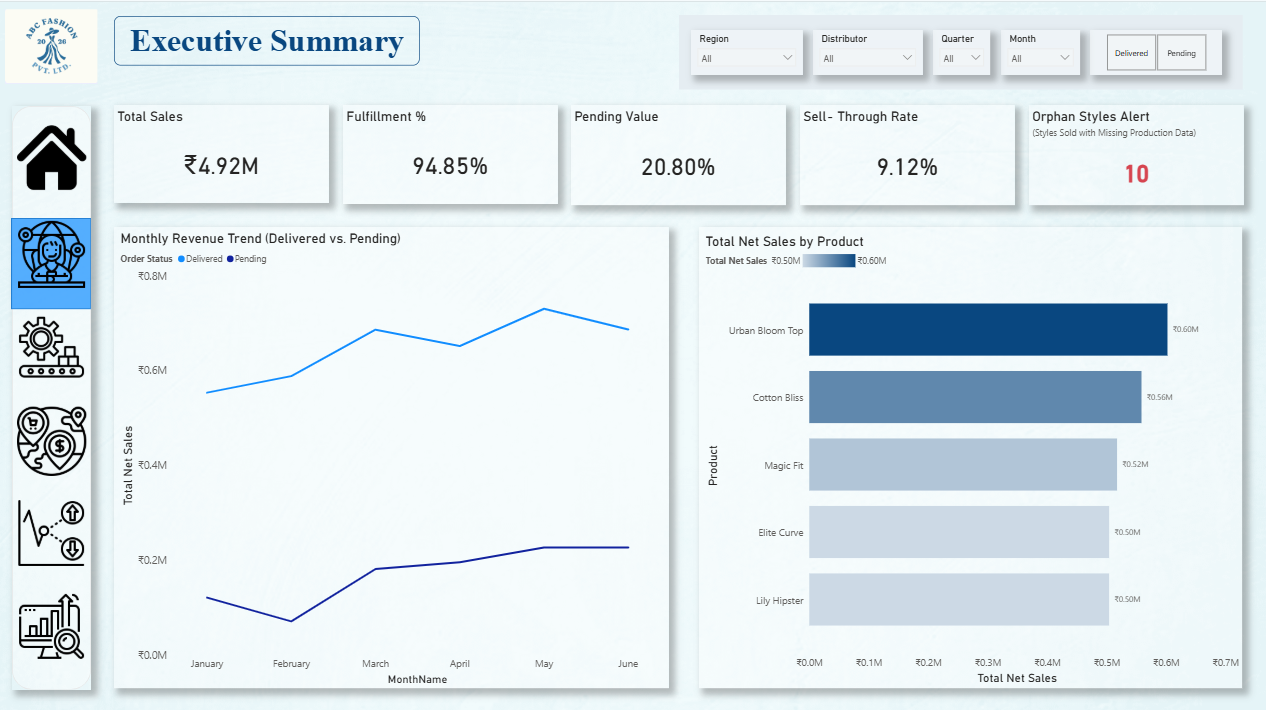

The page's visual inventory and layout, read from the dashboard file:
{"tool":"powerbi","page":{"name":"Executive Summary","canvas":[1920,1080],"ordinal":1},"visuals":[{"type":"card","title":"Total Sales","fields":{"Values":["Measures_Table.Total Net Sales"]},"box":[174.2,156.4,325,148.5],"z":0},{"type":"card","title":"Fulfillment %","fields":{"Values":["Measures_Table.Fulfillment Rate"]},"box":[520.6,156.4,325,150.4],"z":1000},{"type":"card","title":"Pending Value","fields":{"Values":["Measures_Table.Pending Value %"]},"box":[867,156.4,325,152.4],"z":2000},{"type":"card","title":"Sell- Through Rate","fields":{"Values":["Measures_Table.Sell-Through Rate"]},"box":[1213.4,156.4,325,152.4],"z":3000},{"type":"shape","box":[19.9,156.9,119.5,884],"z":4000},{"type":"shape","box":[18.8,326.6,121.4,138.2],"z":5000},{"type":"image","box":[27,328.9,104.7,106.8],"z":5000,"group":"g1"},{"type":"textbox","box":[174.2,21.8,463.2,75.2],"z":6000},{"type":"image","box":[27,177.2,104.7,117.3],"z":6000,"group":"g1"},{"type":"lineChart","title":"Monthly Revenue Trend (Delivered vs. Pending)","fields":{"Category":["Dim_Date.MonthName"],"Y":["Measures_Table.Total Net Sales"],"Series":["Fact_Sales.Order Status"]},"box":[174.2,340.5,840,698.7],"z":7000},{"type":"image","box":[27,889.6,104.7,113.1],"z":7000,"group":"g1"},{"type":"clusteredBarChart","fields":{"Category":["Dim_Style.Product"],"Y":["Measures_Table.Total Net Sales"]},"box":[1060.9,340.5,823.4,698.7],"z":8000},{"type":"image","box":[9.1,0,140.2,134.6],"z":9000},{"type":"card","title":"Orphan Styles Alert","fields":{"Values":["Measures_Table.Orphan Styles Alert"]},"box":[1559.8,156.4,325,152.4],"z":10000},{"type":"group","id":"g1","title":"Navigation img","box":[22.8,177.2,113.1,825.5],"z":11000},{"type":"group","id":"g2","title":"Group 1","box":[1030.3,20.1,854.4,112.8],"z":12000},{"type":"shape","box":[1030.3,20.1,854.4,112.8],"z":12000,"group":"g2"},{"type":"slicer","fields":{"Values":["Dim_Date.MonthName"]},"box":[1517.5,42.3,119.6,68.4],"z":12500,"group":"g2"},{"type":"slicer","fields":{"Values":["Dim_Region.Region"]},"box":[1049.2,42.3,169.2,68.4],"z":13000,"group":"g2"},{"type":"slicer","fields":{"Values":["Dim_Distributor.Distributor"]},"box":[1233.8,42.3,165.8,68.4],"z":14000,"group":"g2"},{"type":"slicer","fields":{"Values":["Dim_Date.Quarter"]},"box":[1414.9,42.3,87.2,68.4],"z":15000,"group":"g2"},{"type":"slicer","fields":{"Values":["Fact_Sales.Order Status"]},"box":[1652.5,42.3,199.9,68.4],"z":16000,"group":"g2"},{"type":"image","box":[27,470.1,104.7,106.8],"z":19000,"group":"g1"},{"type":"image","box":[27,611.3,104.7,106.8],"z":20000,"group":"g1"},{"type":"image","box":[22.8,752.6,113.1,102.6],"z":21000,"group":"g1"}]}

Visuals, with their boxes in screenshot pixels (x1, y1, x2, y2), scaled from the page's 1920x1080 canvas onto the 1266x710 screenshot:
"Total Sales" card: [115,103,329,200]
"Fulfillment %" card: [343,103,558,202]
"Pending Value" card: [572,103,786,203]
"Sell- Through Rate" card: [800,103,1014,203]
shape: [13,103,92,684]
shape: [12,215,92,306]
image: [18,216,87,286]
textbox: [115,14,420,64]
image: [18,116,87,194]
"Monthly Revenue Trend (Delivered vs. Pending)" lineChart: [115,224,669,683]
image: [18,585,87,659]
clusteredBarChart - Dim_Style.Product x Measures_Table.Total Net Sales: [700,224,1242,683]
image: [6,0,98,88]
"Orphan Styles Alert" card: [1028,103,1243,203]
"Navigation img" group: [15,116,90,659]
"Group 1" group: [679,13,1243,87]
shape: [679,13,1243,87]
slicer - Dim_Date.MonthName: [1001,28,1079,73]
slicer - Dim_Region.Region: [692,28,803,73]
slicer - Dim_Distributor.Distributor: [814,28,923,73]
slicer - Dim_Date.Quarter: [933,28,990,73]
slicer - Fact_Sales.Order Status: [1090,28,1221,73]
image: [18,309,87,379]
image: [18,402,87,472]
image: [15,495,90,562]
